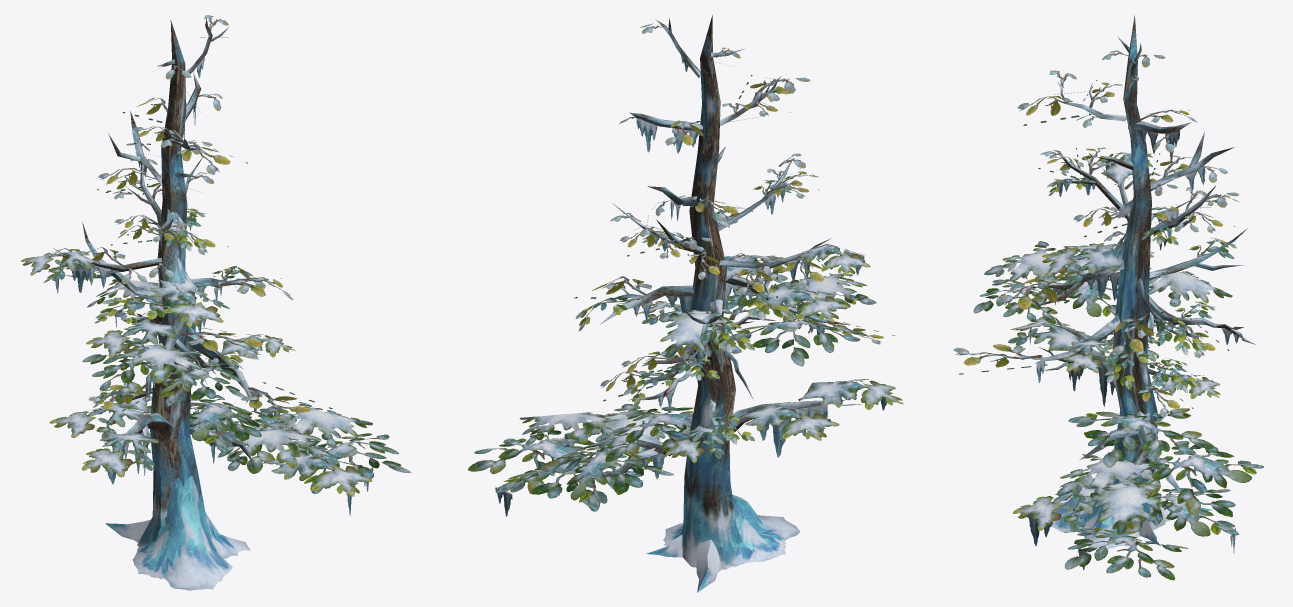
The model's file is 5013_Item_shu_1.FBX.
3 renders of one model, left to right at view 1: azimuth 30°, elevation 25°; view 2: azimuth 150°, elevation 25°; view 3: azimuth 270°, elevation 25°, orthographic. The views are drawn at different scales.
Visible parts, largest first — view 1: 5013_Item_shu_1; view 2: 5013_Item_shu_1; view 3: 5013_Item_shu_1.
Boxes of the visible parts, left/top/right/bottom form: 5013_Item_shu_1: left=21, top=15, right=411, bottom=590; 5013_Item_shu_1: left=468, top=15, right=903, bottom=592; 5013_Item_shu_1: left=953, top=14, right=1263, bottom=580.
Size of the model in its own units: 1279 by 1616 by 975.
